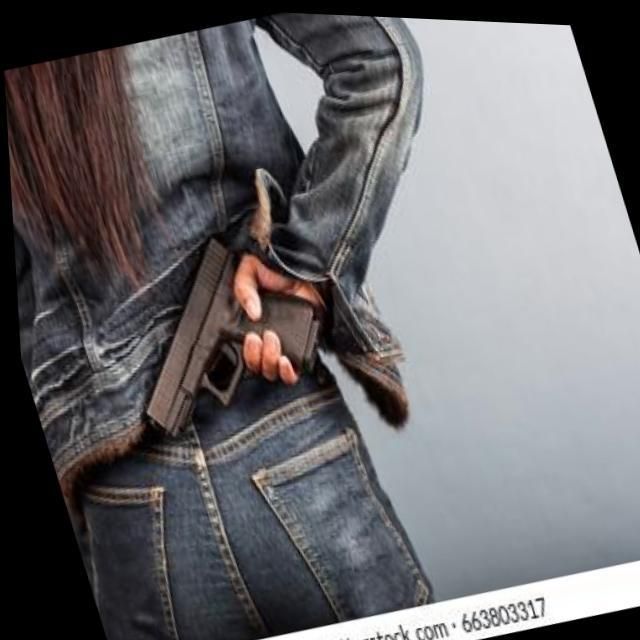weapon: (85, 198, 362, 460)
